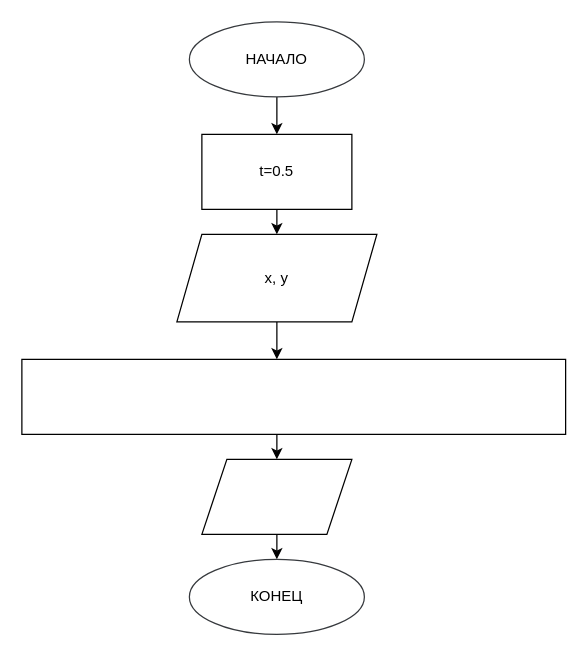
Some shapes in this 588 by 656 pixel diagram are drawn without their labels. Here are the shapes that lost their labels. From the top down, the centre of each, then its label:
At pixel 293 396: "F(x,y)=(pow(sin(x), 3) + log(2 *y+3* x)) / (pow(t,e)+sqrt(x))".
At pixel 276 496: "F(x,y)".
